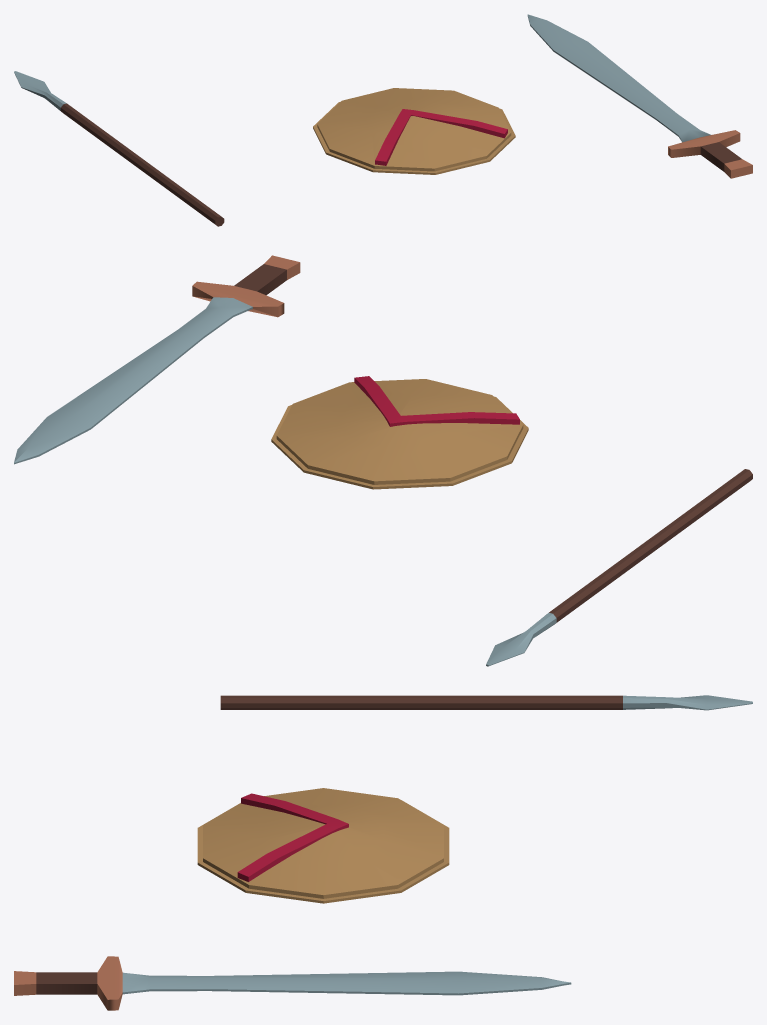
The model's file is props.fbx.
3 renders of one model, top to bottom at view 1: azimuth 30°, elevation 25°; view 2: azimuth 150°, elevation 25°; view 3: azimuth 270°, elevation 25°, orthographic. The views are drawn at different scales.
Parts seen in each view (by area): view 1: shield, sword, pCube2; view 2: shield, sword, pCube2; view 3: shield, sword, pCube2.
Boxes of the visible parts, box(x1,y1,x2,y2) form: shield: box(313, 88, 515, 174); sword: box(527, 14, 752, 178); pCube2: box(14, 71, 224, 226); shield: box(271, 376, 528, 489); sword: box(14, 255, 300, 464); pCube2: box(486, 469, 752, 666); shield: box(197, 788, 449, 903); sword: box(14, 956, 571, 1010); pCube2: box(220, 695, 752, 710).
Bounding box in the file's own units: 13.88 × 0.6712 × 13.99.
Materials: 1 (1 with a texture image).
